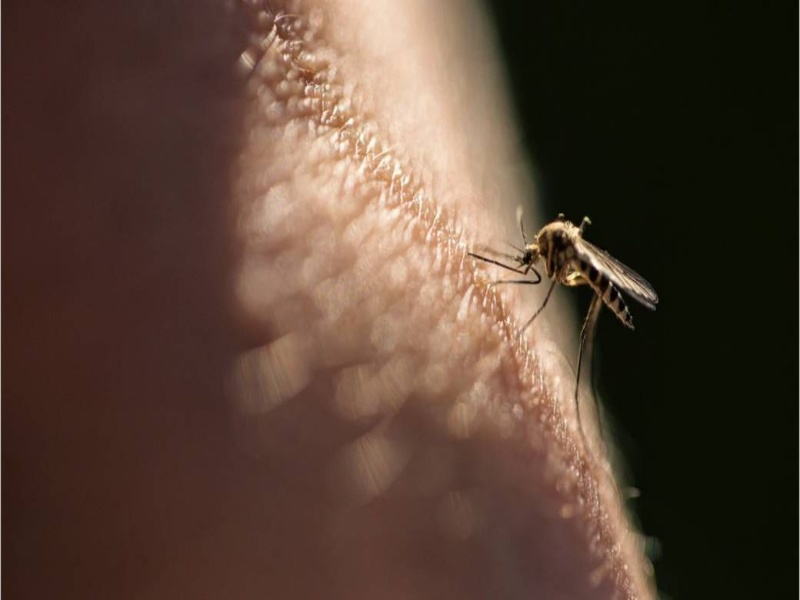dengue_mosquito: (478, 209, 659, 354)
